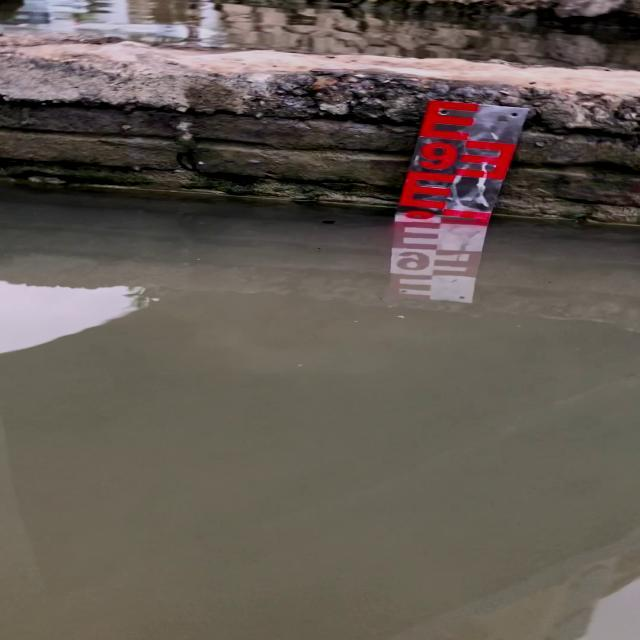ruler: (390, 88, 531, 225)
value: (411, 134, 461, 176)
